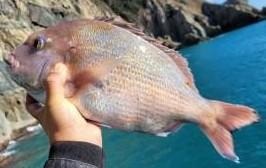fish: (6, 19, 258, 162)
